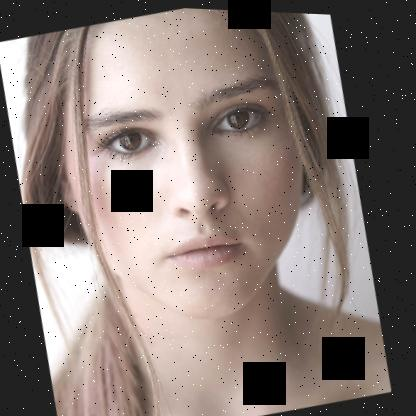Female: (20, 1, 354, 347)
